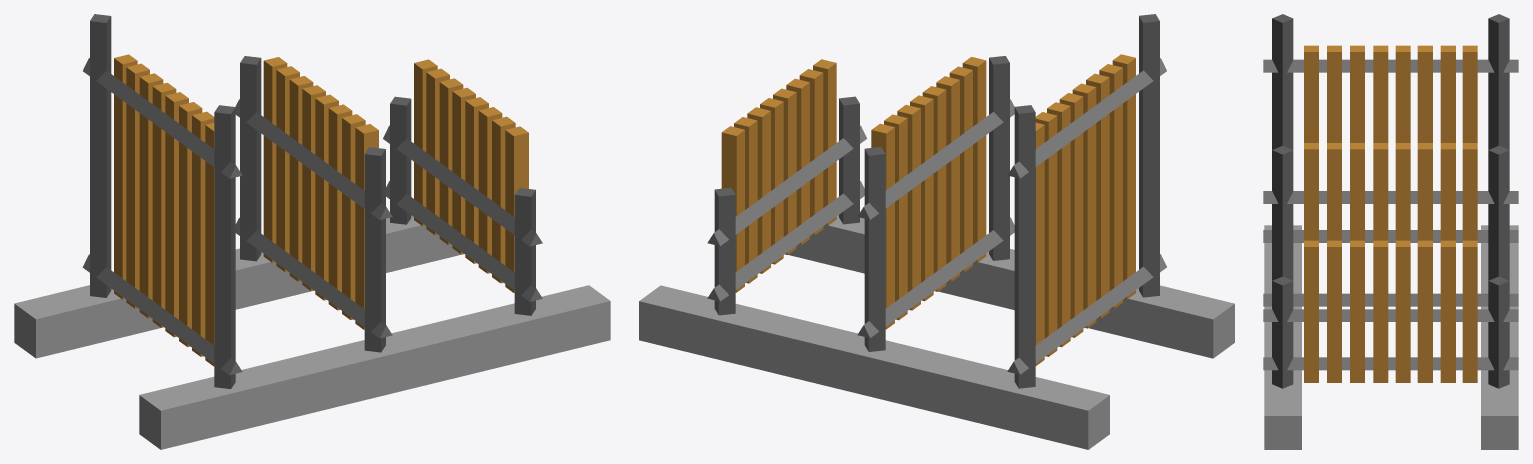
File: green_b_ci.glb
3 renders of one model, left to right at view 1: azimuth 30°, elevation 25°; view 2: azimuth 150°, elevation 25°; view 3: azimuth 270°, elevation 25°, orthographic. The views are drawn at different scales.
Visible parts, largest first — view 1: Cube.012; view 2: Cube.012; view 3: Cube.012.
Part boxes in pixels (x1=…): Cube.012: x1=14, y1=14, x2=610, y2=449; Cube.012: x1=639, y1=14, x2=1234, y2=449; Cube.012: x1=1263, y1=14, x2=1518, y2=449.
Size of the model in its own units: 6 by 4.01 by 3.4.
